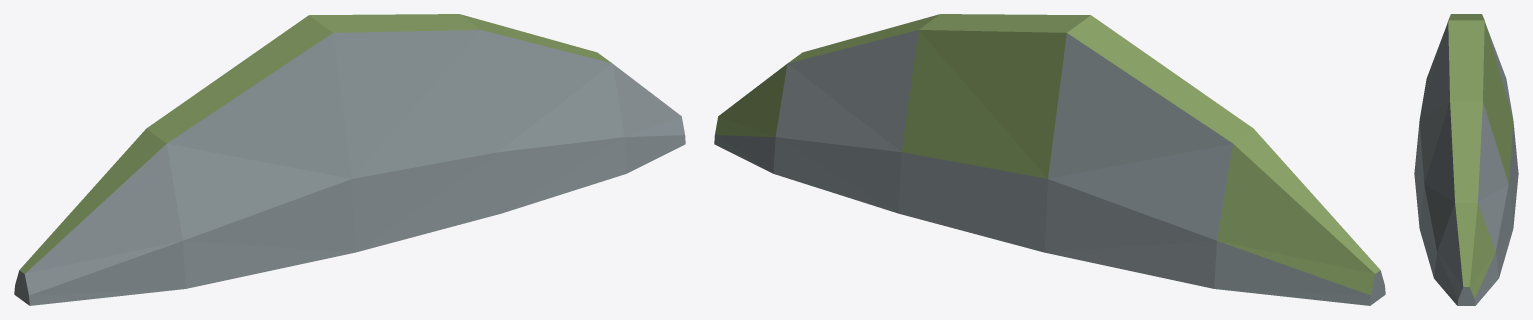
Rendered from SM_MarshwardRockyBank_01.fbx.
3 views of the same model, side by side, from view 1: azimuth 30°, elevation 25°; view 2: azimuth 150°, elevation 25°; view 3: azimuth 270°, elevation 25° (orthographic). The views are drawn at different scales.
Parts seen in each view (by area): view 1: SM_MarshwardRockyBank_01; view 2: SM_MarshwardRockyBank_01; view 3: SM_MarshwardRockyBank_01.
Part boxes in pixels (x1=…): SM_MarshwardRockyBank_01: x1=14, y1=14, x2=685, y2=305; SM_MarshwardRockyBank_01: x1=714, y1=14, x2=1385, y2=305; SM_MarshwardRockyBank_01: x1=1414, y1=14, x2=1518, y2=305.
Size of what is drawn, in the model's own units: 2200 by 400 by 650.
